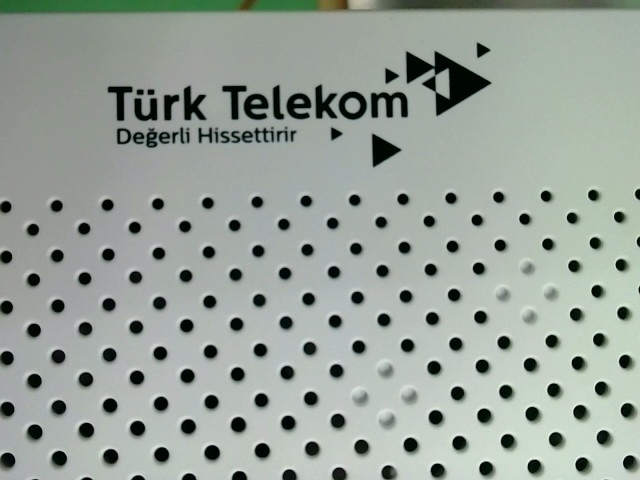AQ_TURKTelekom: (106, 38, 494, 169)
